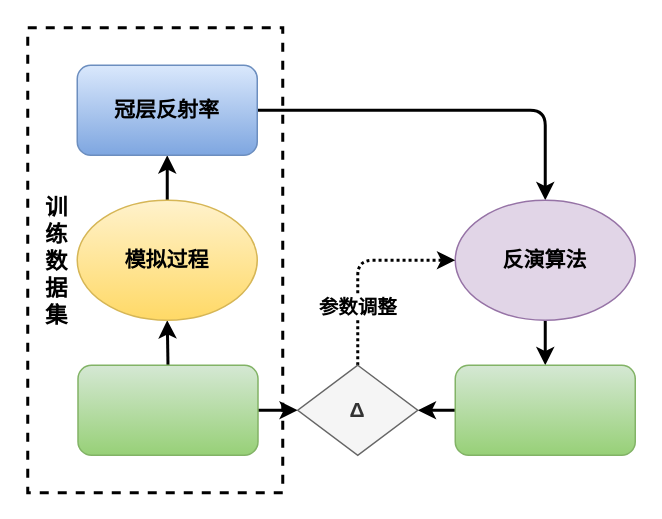
This 662x519 diagram has some shape labels left out. The shapes that lost their labels are listed below. From the top down, each one's centre as x and y in pixels, then its label:
the point at 167,409: LAI
the point at 544,409: LAI*
